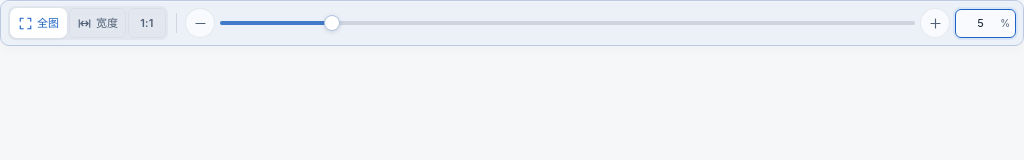
precise percentage edits commit on blur, while Escape and invalid edits preserve the camera
This screenshot has width=1024, height=160.
Replace the text in the field named "图形缩放比例" with "41.6" at (981, 23), box [961,15,1000,31]
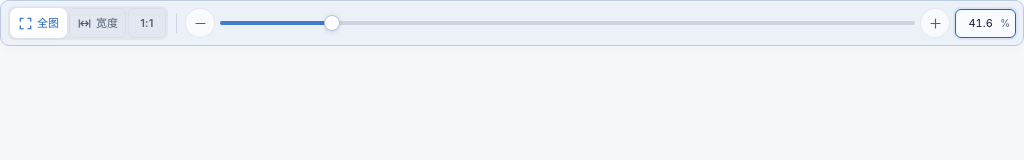
Press Enter in the field named "图形缩放比例", box [961,15,1000,31]
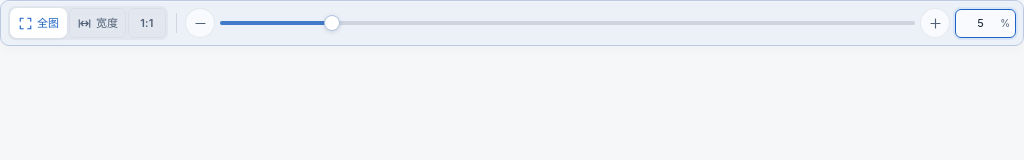
Replace the text in the field named "图形缩放比例" with "200" at (981, 23), box [961,15,1000,31]
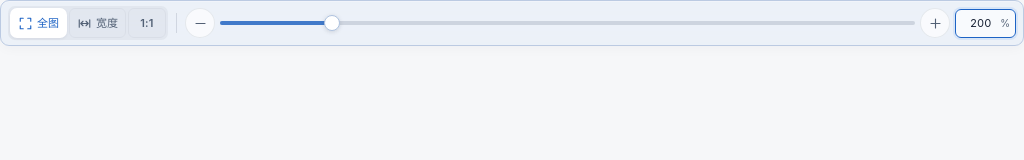
Press Escape in the field named "图形缩放比例", box [961,15,1000,31]
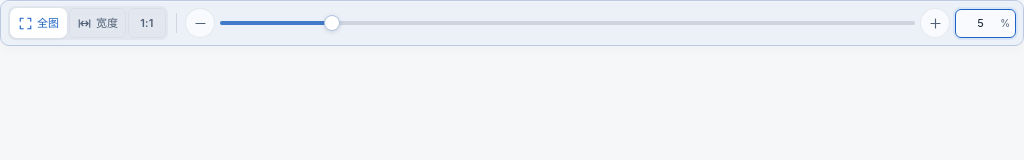
Replace the text in the field named "图形缩放比例" with "abc" at (981, 23), box [961,15,1000,31]
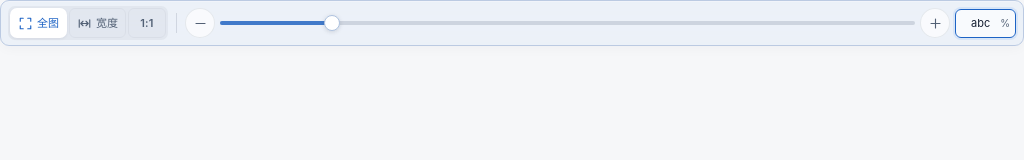
Leave the field named "图形缩放比例", box [961,15,1000,31]
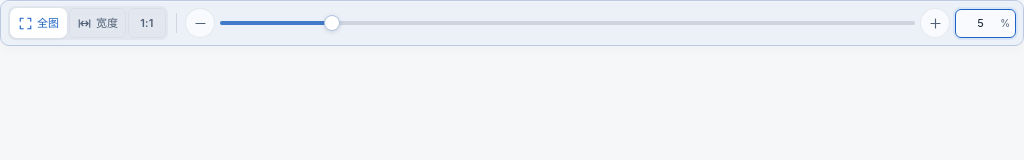
Now the field named "图形缩放比例" holds "5", box [961,15,1000,31]
